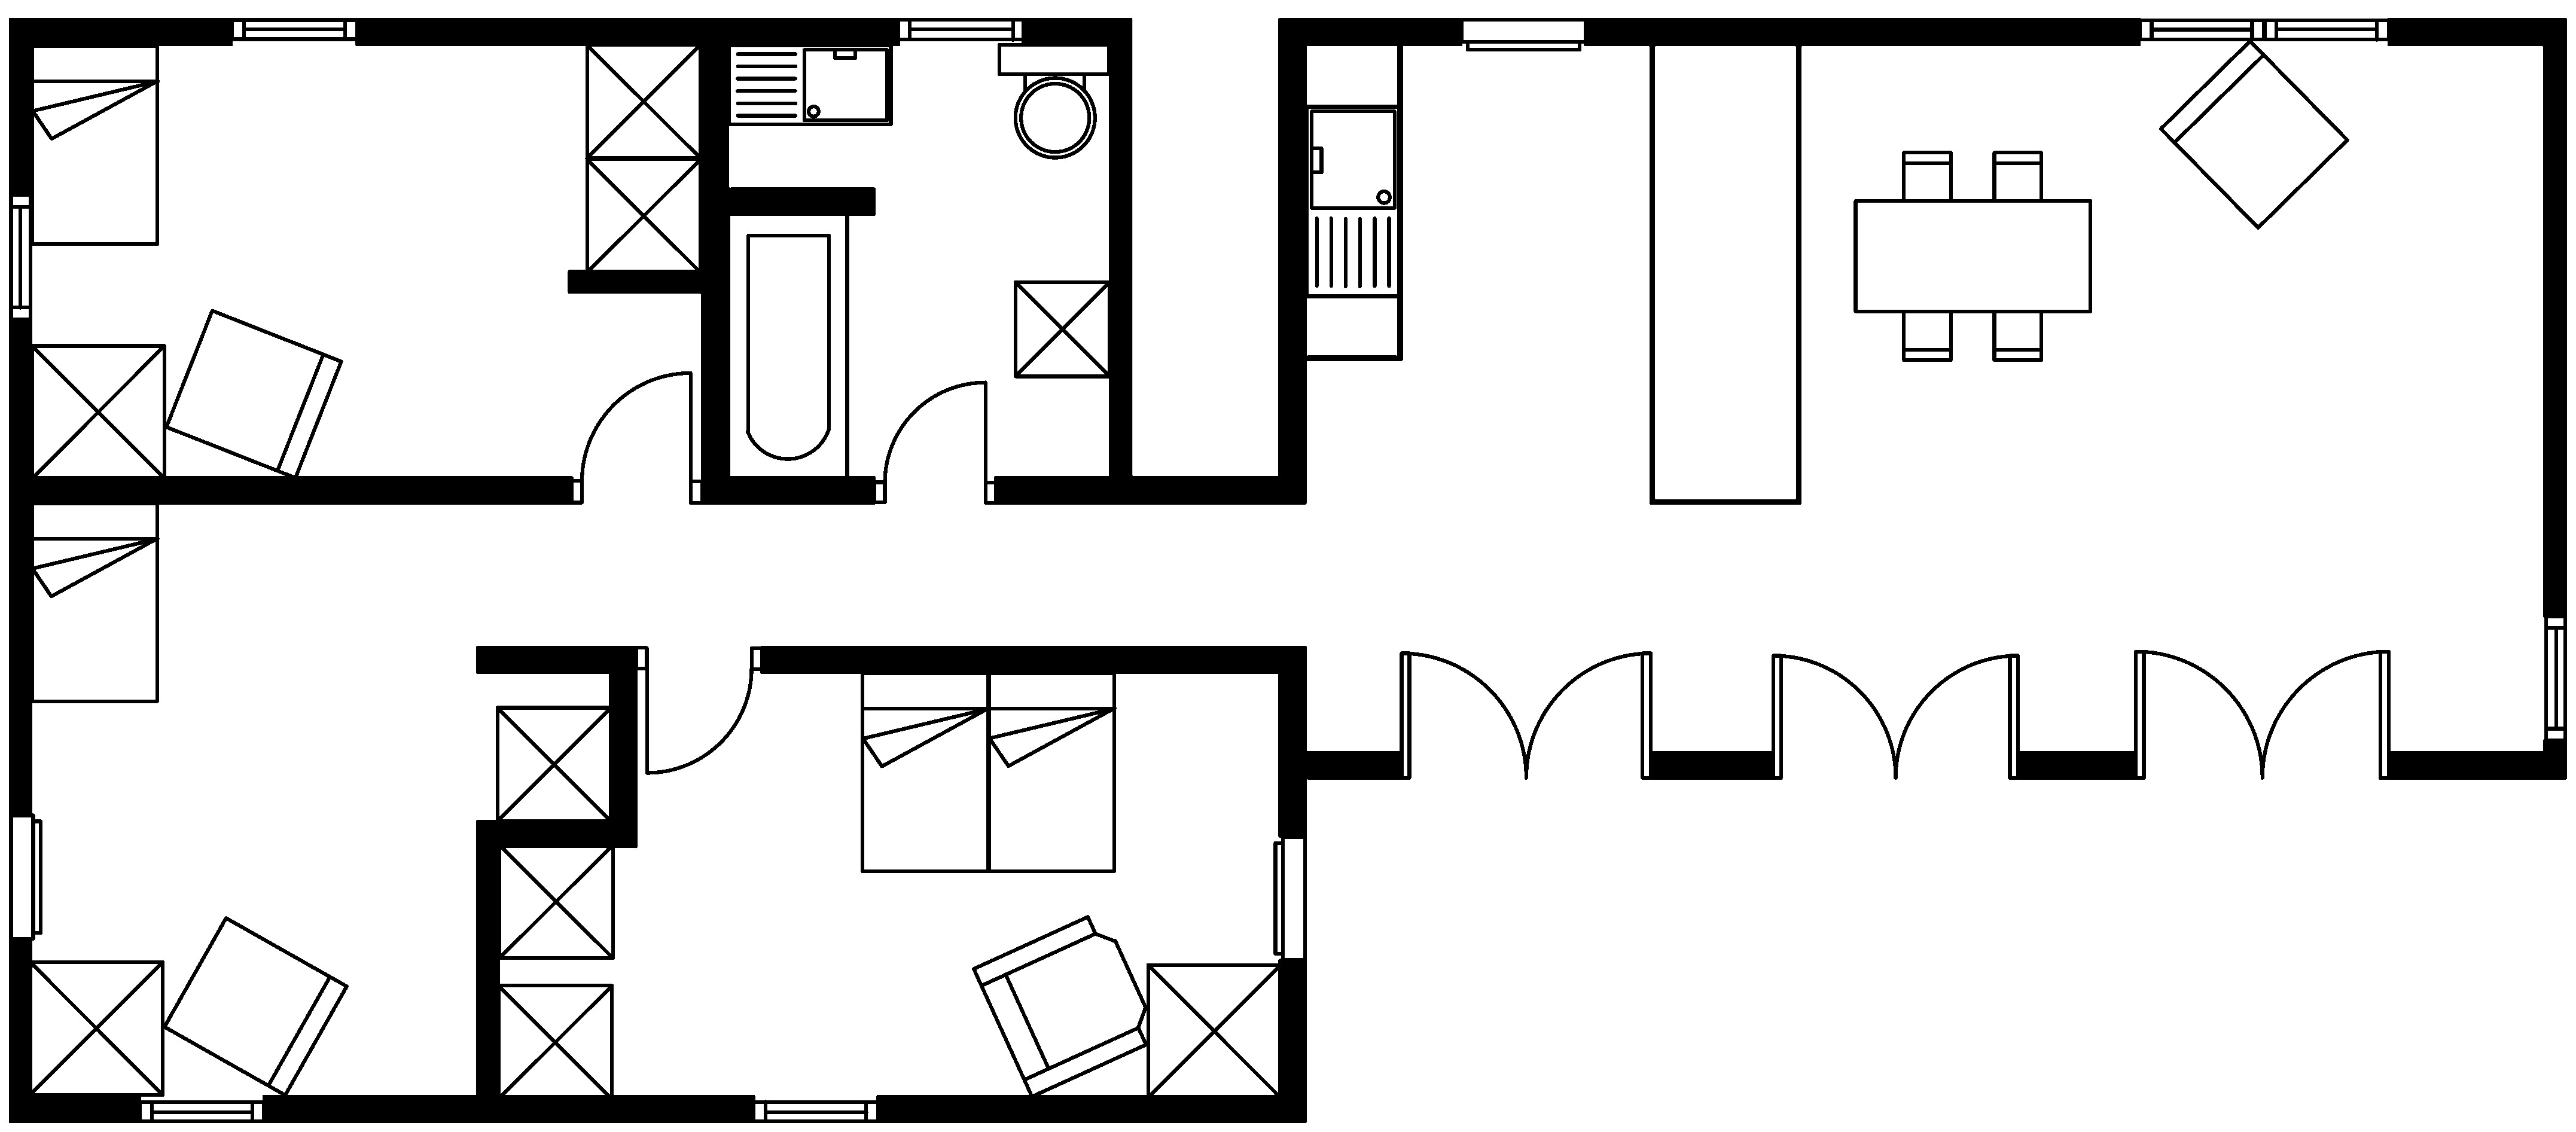armchair: (971, 915, 1148, 1099)
bed: (28, 501, 159, 703), (859, 670, 991, 872), (986, 670, 1117, 872), (30, 43, 159, 246)
coffee_table: (26, 959, 164, 1097), (1145, 963, 1283, 1099), (30, 343, 166, 480), (494, 982, 614, 1101), (583, 41, 702, 161), (494, 705, 613, 823), (496, 841, 614, 959), (585, 156, 702, 274), (1012, 279, 1112, 378)
dining_table: (1853, 150, 2093, 361)
large_sink: (997, 41, 1111, 158)
sink: (1304, 104, 1401, 297), (726, 43, 894, 127)
small_sofa: (2159, 38, 2349, 230), (161, 915, 348, 1097), (163, 307, 343, 480)
tub: (726, 210, 849, 483)
